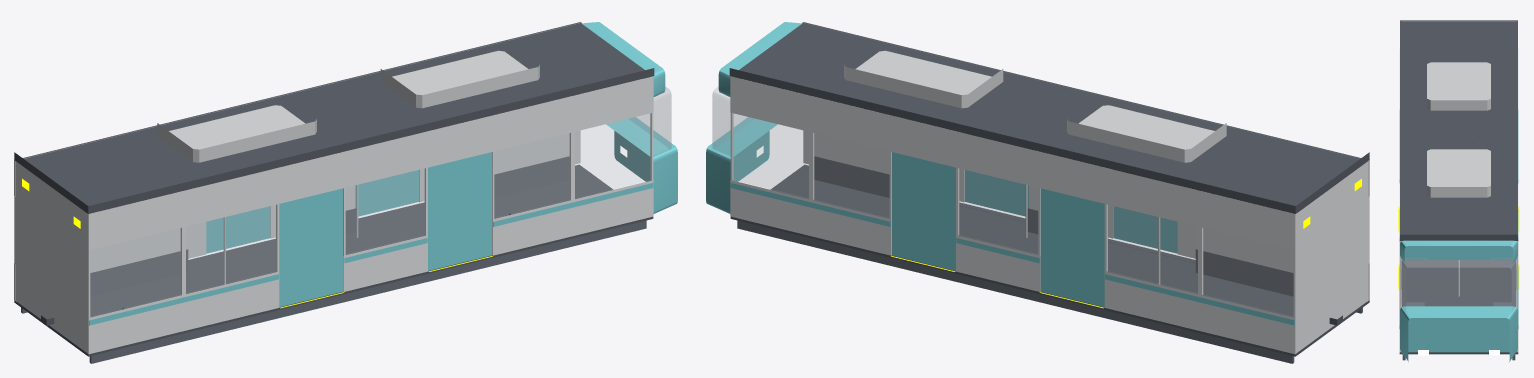
File: ext_maglev_car_body_01.glb
The picture shows the model from 3 angles, left to right: view 1: azimuth 30°, elevation 25°; view 2: azimuth 150°, elevation 25°; view 3: azimuth 270°, elevation 25°; orthographic projection. The views are drawn at different scales.
Visible parts, largest first — view 1: Roof, Side_Glass, Wall, Lower_Wall, Underframe, Roof_Pods, End_Wall, Door_L_01, Door_L_02, Skirts, Cab_Nose, Seats (+4 smaller); view 2: Roof, Side_Glass, Wall, Lower_Wall, Underframe, Roof_Pods, End_Wall, Door_R_01, Door_R_02, Skirts, Cab_Nose, Seats (+4 smaller); view 3: Roof, Cab_Nose, Roof_Pods, Underframe, Cab_Glass, Wall, Destination_Screen, Livery_Stripe, Seats, Door_Sills, Headlights, End_Wall.
Boxes of the visible parts, x1,y1,x2,y2 form: Roof: [14, 22, 654, 213]; Side_Glass: [90, 113, 650, 316]; Wall: [14, 23, 653, 317]; Lower_Wall: [14, 130, 653, 354]; Underframe: [14, 164, 653, 356]; Roof_Pods: [157, 50, 539, 162]; End_Wall: [15, 161, 87, 352]; Door_L_01: [279, 188, 343, 306]; Door_L_02: [428, 152, 491, 270]; Skirts: [21, 168, 646, 363]; Cab_Nose: [582, 22, 677, 213]; Seats: [90, 156, 569, 309]; Roof: [729, 22, 1369, 213]; Side_Glass: [733, 113, 1293, 316]; Wall: [730, 23, 1369, 317]; Lower_Wall: [730, 130, 1369, 354]; Underframe: [730, 164, 1369, 356]; Roof_Pods: [844, 50, 1226, 162]; End_Wall: [1296, 161, 1368, 352]; Door_R_01: [1040, 188, 1104, 306]; Door_R_02: [892, 152, 955, 270]; Skirts: [737, 168, 1362, 363]; Cab_Nose: [706, 22, 801, 213]; Seats: [814, 156, 1293, 309]; Roof: [1400, 20, 1517, 240]; Cab_Nose: [1400, 240, 1517, 361]; Roof_Pods: [1427, 62, 1490, 197]; Underframe: [1399, 259, 1518, 354]; Cab_Glass: [1401, 259, 1516, 311]; Wall: [1399, 49, 1518, 322]; Destination_Screen: [1427, 251, 1490, 259]; Livery_Stripe: [1399, 109, 1518, 328]; Seats: [1406, 259, 1511, 306]; Door_Sills: [1398, 206, 1519, 289]; Headlights: [1418, 350, 1499, 355]; End_Wall: [1402, 21, 1515, 21].
Bounding box in the file's own units: 12.16 × 3.34 × 2.66.
